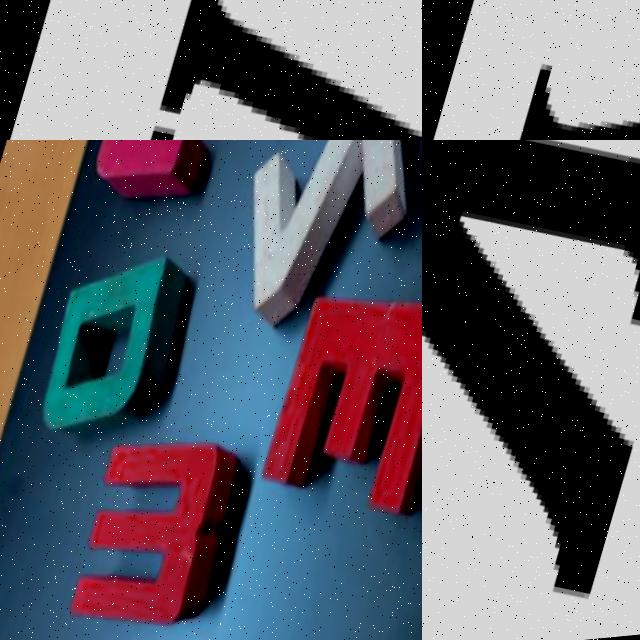A: (83, 140, 245, 226)
D: (36, 243, 195, 460)
E: (250, 267, 422, 546)
F: (422, 0, 640, 140)
K: (422, 140, 640, 640)
W: (29, 0, 422, 140), (61, 413, 253, 640)
Z: (217, 140, 422, 351)
